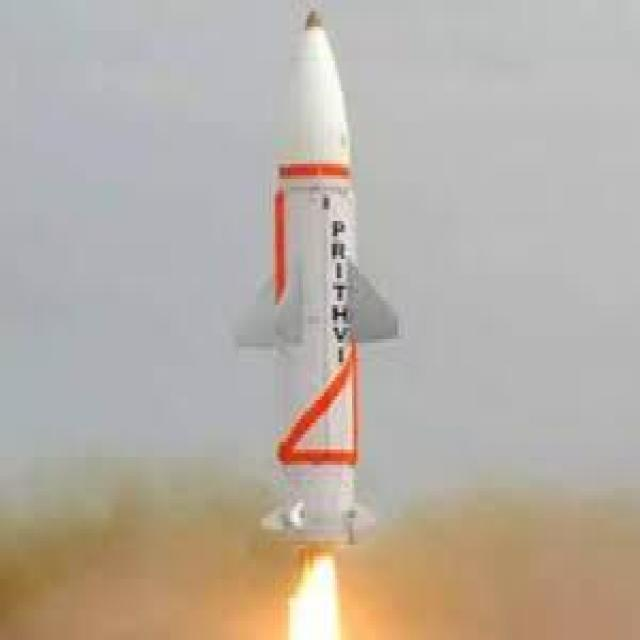rocket: (224, 19, 397, 621)
